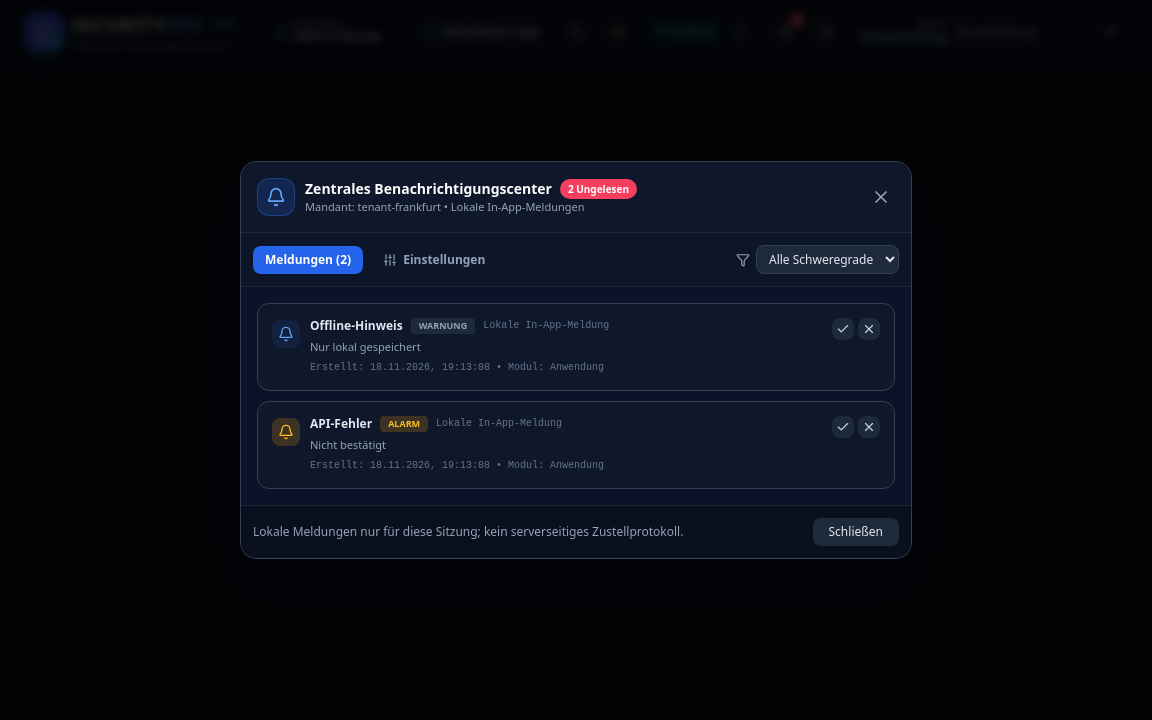
Runtime notification center › filters real warning and error messages by severity
The width and height of the screenshot is (1152, 720).
Select "Alarm" in the dropdown named "Meldungen nach Schweregrad filtern" at (828, 260), box [756,245,899,274]
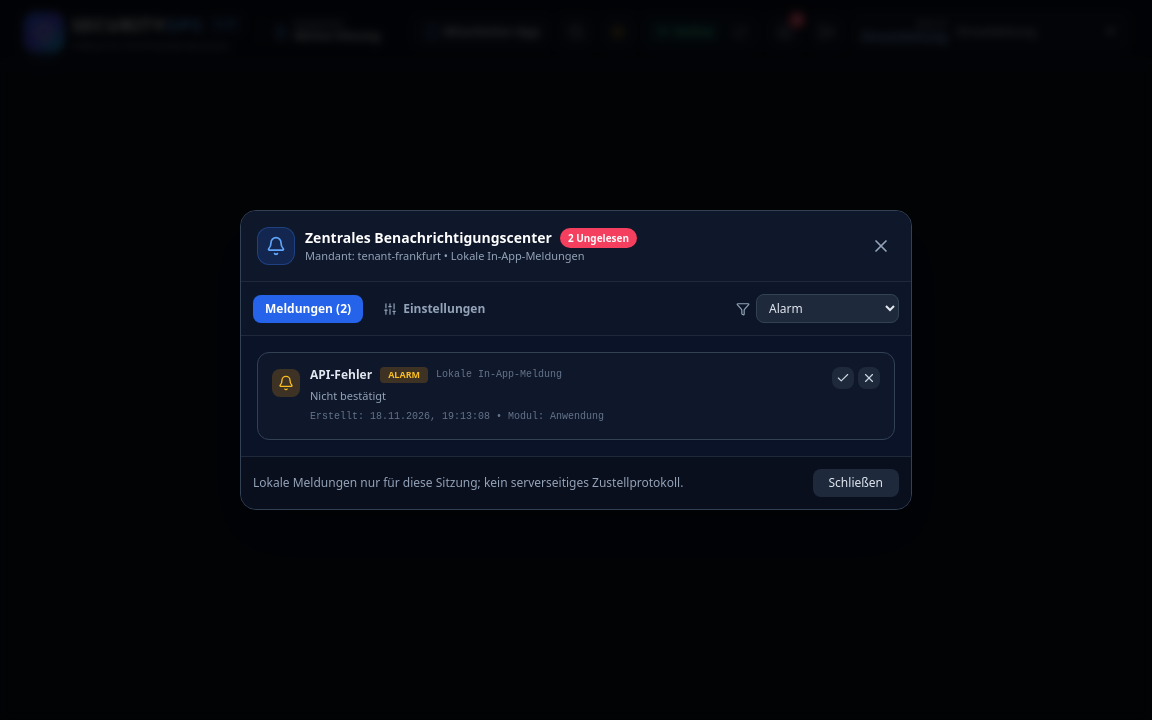
Expected: the text "Nicht bestätigt" is shown, [310,388,386,403]
Expected: the text "Nur lokal gespeichert" is gone
